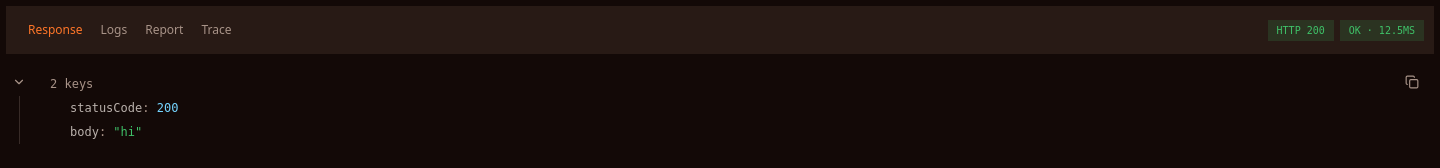
Scenario: shows Init Duration in the Report tab when the report includes initMs
The width and height of the screenshot is (1440, 168).
Click the tab "Report" at point(164, 30), box [136,16,192,44]
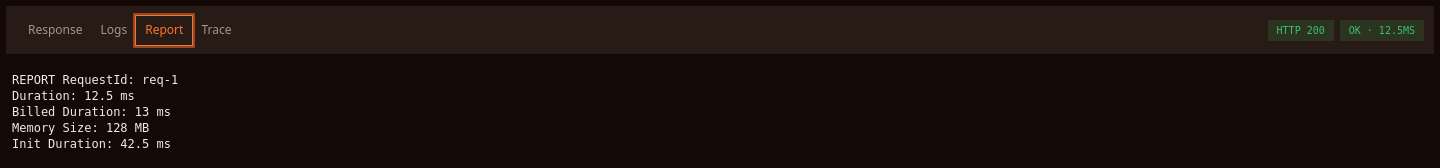
Check: the text "Init Duration: 42.5 ms" is shown, box [12,73,178,151]
